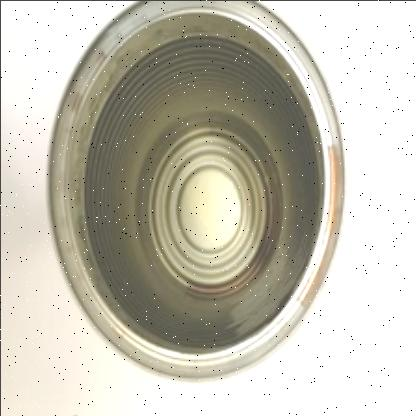Can: (46, 0, 344, 382)
